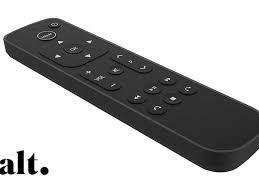remote control: (2, 12, 218, 134)
